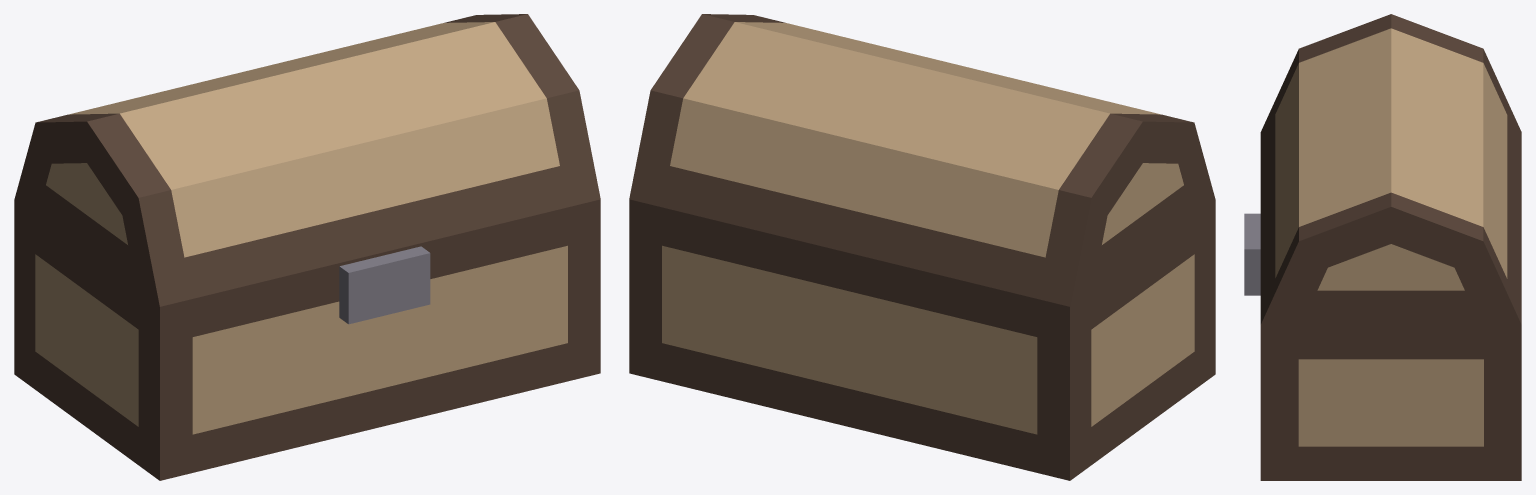
File: TB_Prop_Chest_A.FBX
3 views of the same model, side by side, from view 1: azimuth 30°, elevation 25°; view 2: azimuth 150°, elevation 25°; view 3: azimuth 270°, elevation 25° (orthographic). The views are drawn at different scales.
Visible parts, largest first — view 1: TB_Prop_Chest_A; view 2: TB_Prop_Chest_A; view 3: TB_Prop_Chest_A.
Boxes of the visible parts, x1,y1,x2,y2 form: TB_Prop_Chest_A: (14,14,600,480); TB_Prop_Chest_A: (629,14,1215,480); TB_Prop_Chest_A: (1244,14,1521,480).
Size of the model in its own units: 1.05 by 0.6939 by 0.6362.
